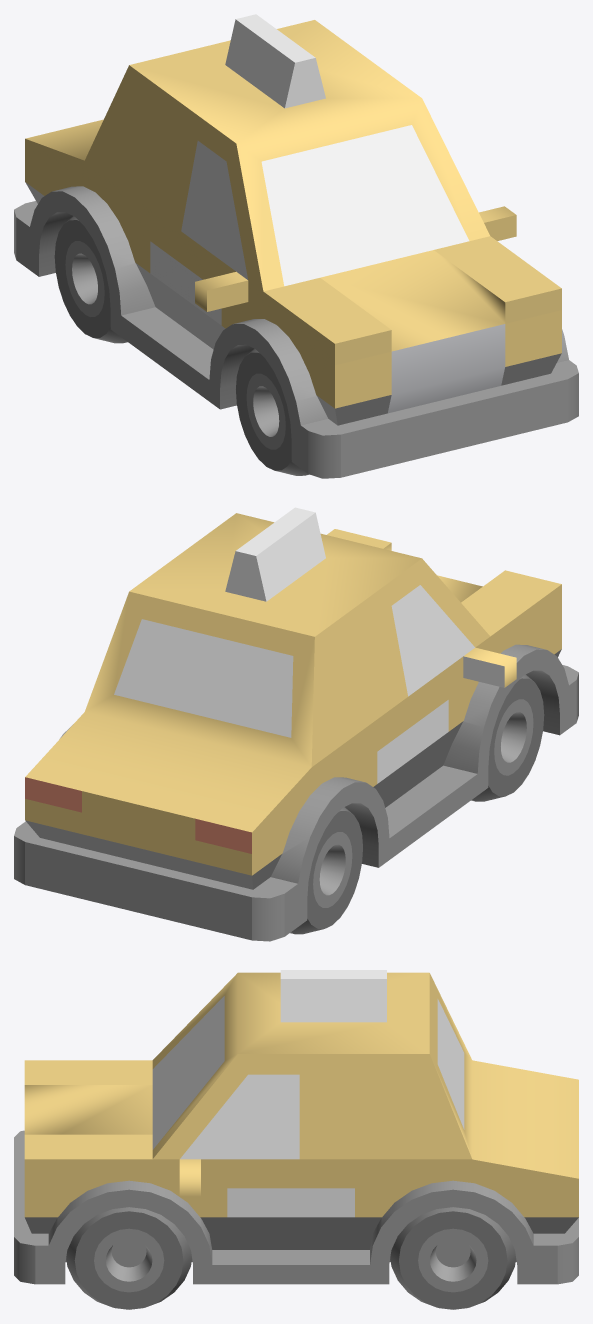
The model's file is taxi.fbx.
The picture shows the model from 3 angles, top to bottom: view 1: azimuth 30°, elevation 25°; view 2: azimuth 150°, elevation 25°; view 3: azimuth 270°, elevation 25°; orthographic projection. The views are drawn at different scales.
Visible parts, largest first — view 1: body1; view 2: body1; view 3: body1.
Part boxes in pixels (x1,y1,x2,y2): body1: (14,14,578,478); body1: (14,507,578,941); body1: (14,970,578,1309).
Size of the model in its own units: 1.5 by 1.5 by 2.65.
